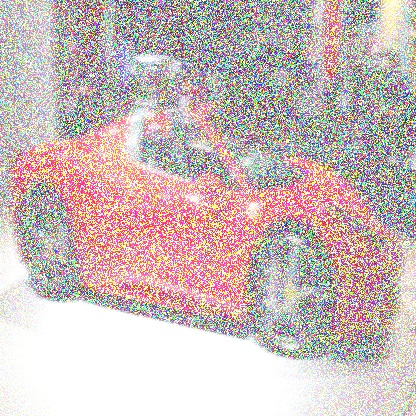Vehicle: (10, 102, 403, 357)
